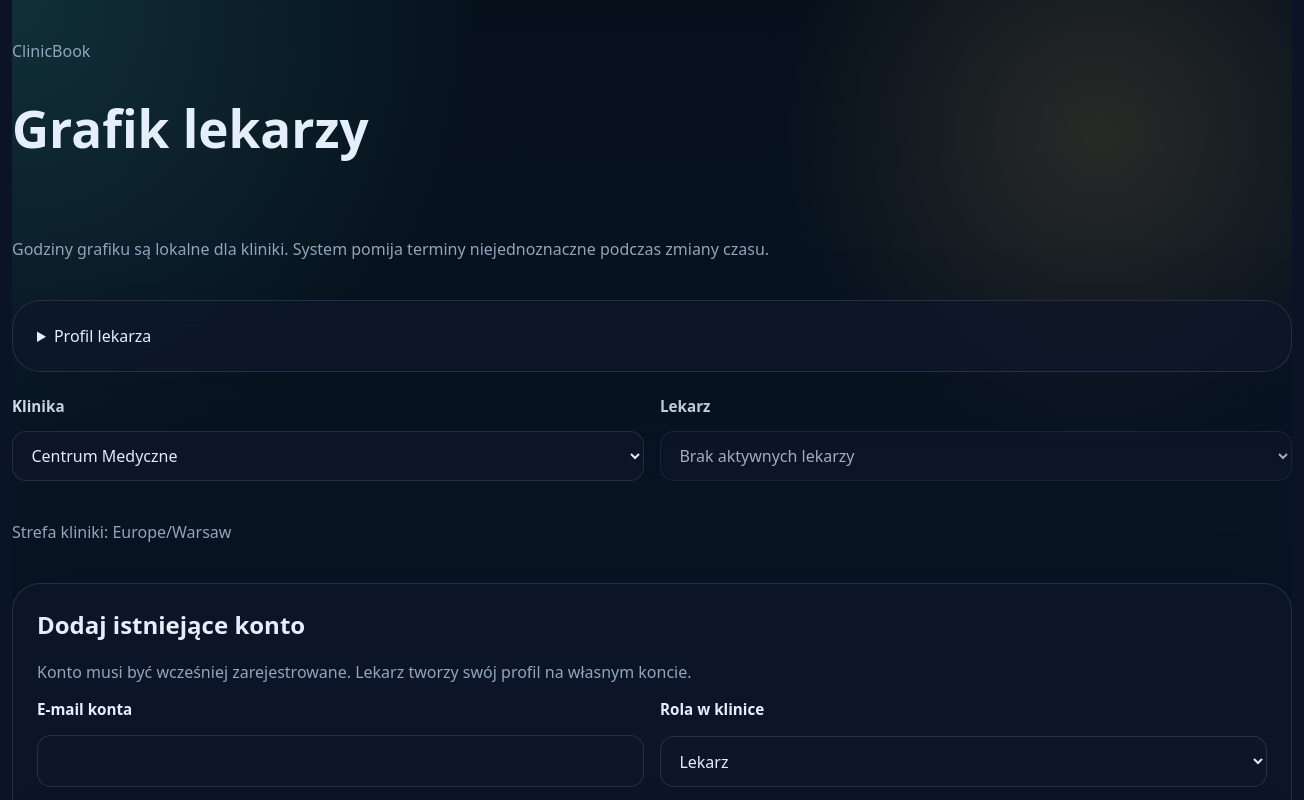
Scenario: ClinicSchedule page › ignores doctor responses for a previous clinic selection
Select "Druga klinika" in the dropdown labelled "Klinika" at [328, 456], box [12, 431, 644, 481]
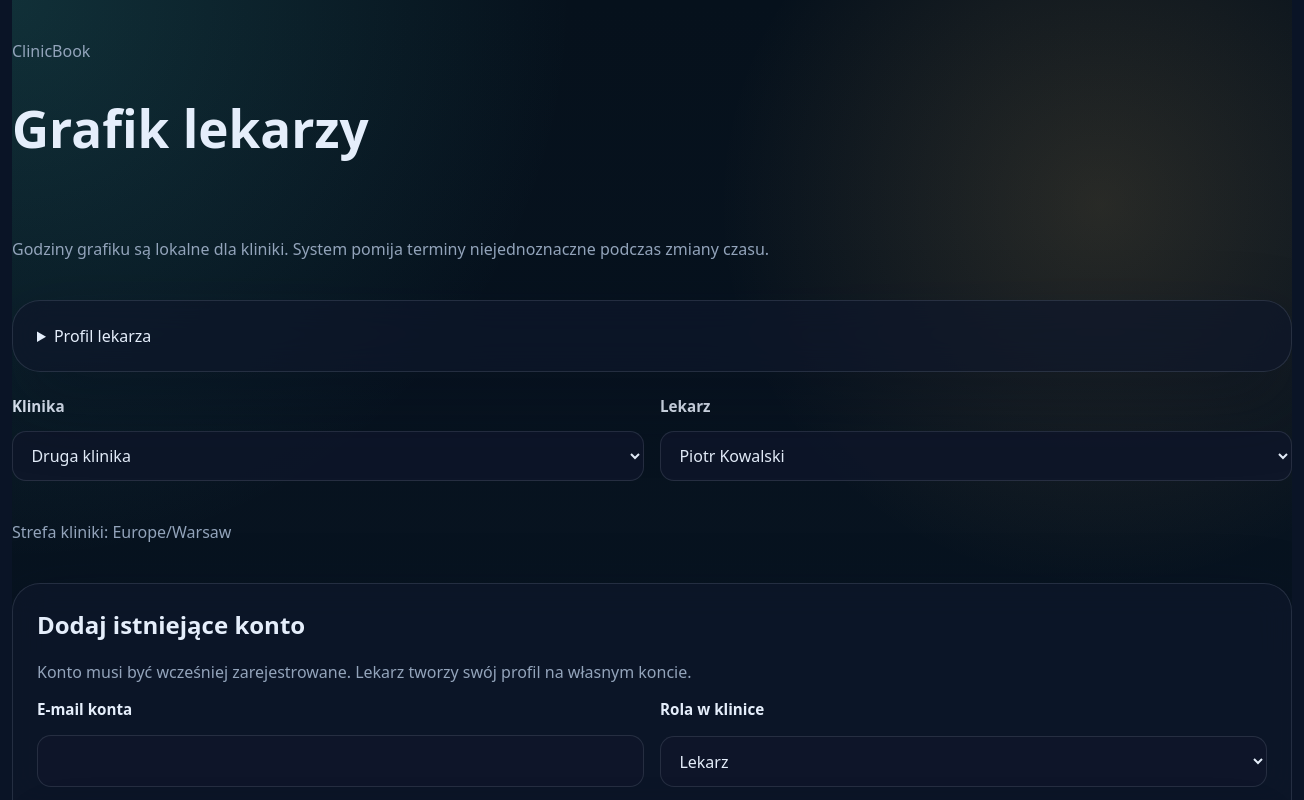
Result: the dropdown labelled "Lekarz" shows "Piotr Kowalski" at [660, 431, 1292, 481]
